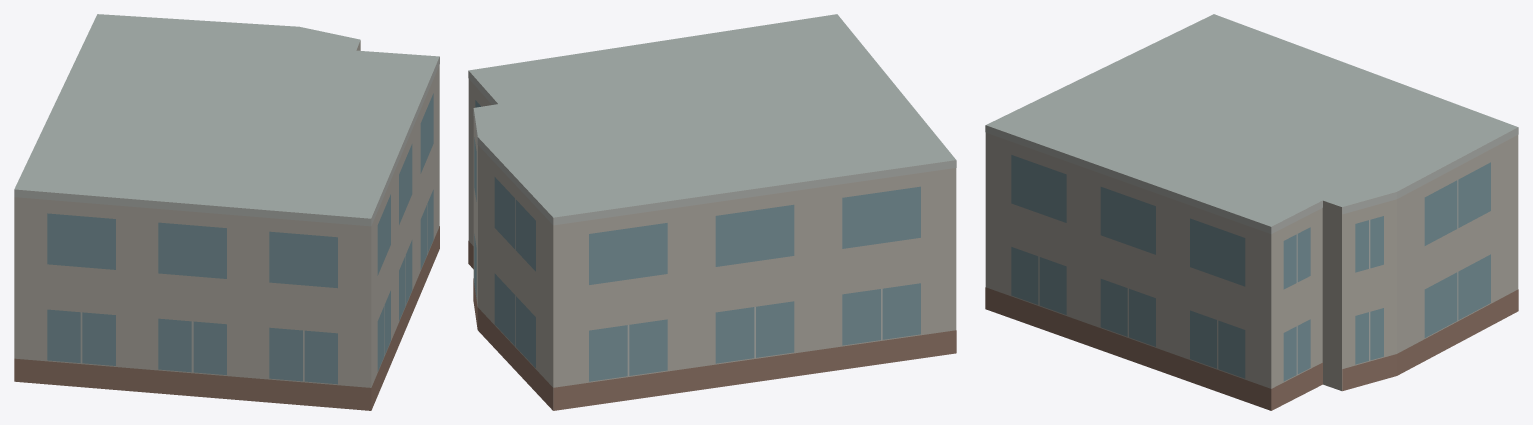
The model's file is survey-upis-32961383.glb.
3 views of the same model, side by side, from view 1: azimuth 30°, elevation 25°; view 2: azimuth 150°, elevation 25°; view 3: azimuth 270°, elevation 25° (orthographic). The views are drawn at different scales.
Parts seen in each view (by area): view 1: survey-upis-32961383.tmp; view 2: survey-upis-32961383.tmp; view 3: survey-upis-32961383.tmp.
Part boxes in pixels (x1,y1,x2,y2): survey-upis-32961383.tmp: (14,14,439,410); survey-upis-32961383.tmp: (468,14,956,410); survey-upis-32961383.tmp: (985,14,1518,410).
Bounding box in the file's own units: 15.14 × 6.1 × 16.02.
